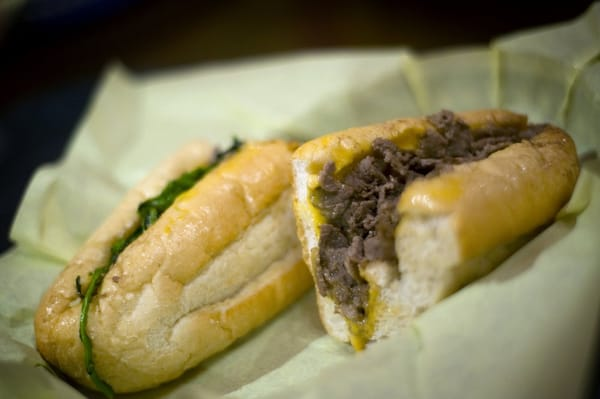soup: (34, 135, 315, 393)
